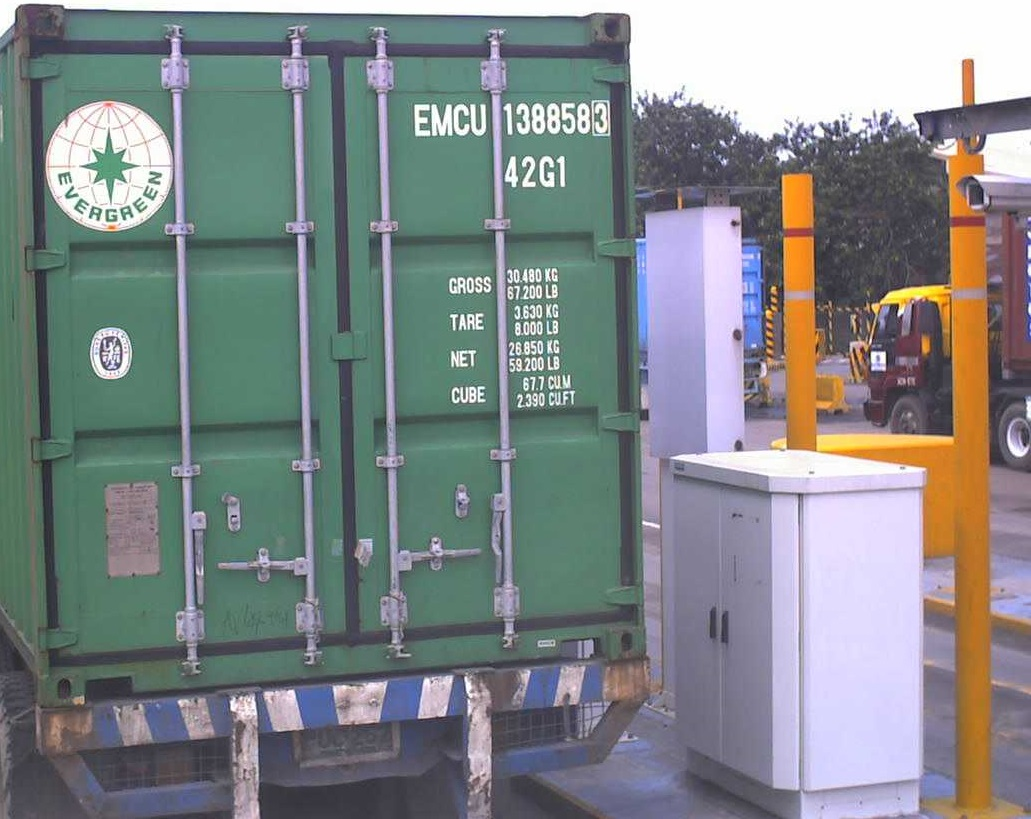container_door: (17, 2, 649, 703)
